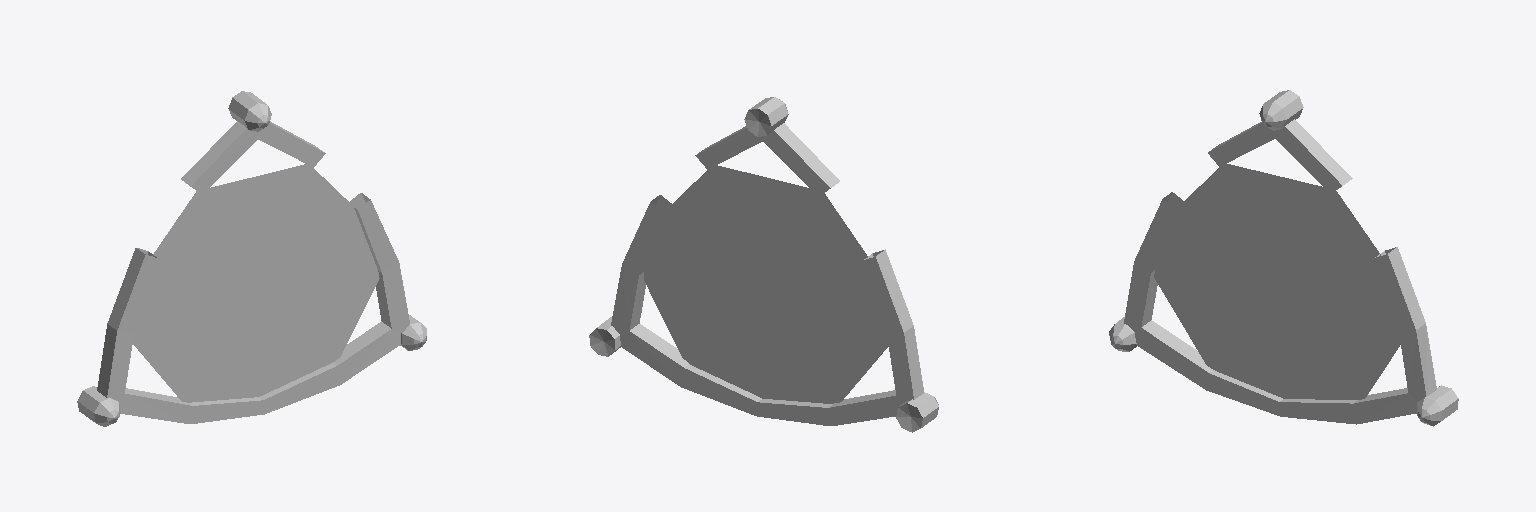
The model's file is ship.obj.
The picture shows the model from 3 angles: view 1: azimuth 30°, elevation 25°; view 2: azimuth 150°, elevation 25°; view 3: azimuth 330°, elevation 25°; orthographic projection.
Parts seen in each view (by area): view 1: polySurface4, polySurface3, pCylinder2, pCylinder3, pCylinder4; view 2: polySurface4, polySurface3, pCylinder2, pCylinder3, pCylinder4; view 3: polySurface4, polySurface3, pCylinder2, pCylinder4, pCylinder3.
Boxes of the visible parts, <box> form: polySurface4: <box>133,164,379,402</box>; polySurface3: <box>97,121,409,423</box>; pCylinder2: <box>228,91,271,131</box>; pCylinder3: <box>77,386,120,426</box>; pCylinder4: <box>400,315,426,350</box>; polySurface4: <box>644,165,888,403</box>; polySurface3: <box>611,123,923,425</box>; pCylinder2: <box>744,97,788,136</box>; pCylinder3: <box>896,392,938,432</box>; pCylinder4: <box>589,317,620,356</box>; polySurface4: <box>1154,164,1400,399</box>; polySurface3: <box>1124,119,1436,424</box>; pCylinder2: <box>1259,90,1303,130</box>; pCylinder4: <box>1416,385,1458,426</box>; pCylinder3: <box>1109,317,1136,351</box>.
Size of the model in its own units: 24.3 by 21.81 by 3.04.